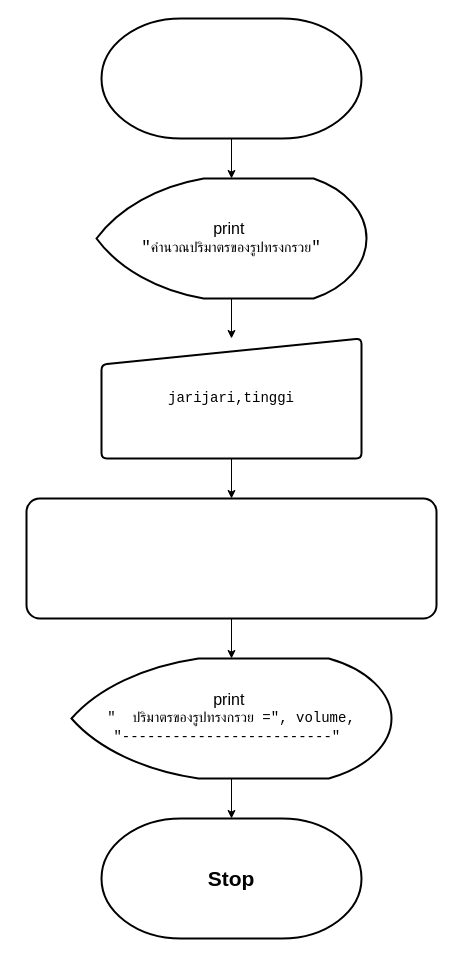
The diagram is 462 pixels wide and 956 high, and some of its shapes have lost their labels. Each missing label, with the box of its shape:
Start: (100, 17, 362, 139)
volume = (1/3) * 3.14159 * jarijari ** 2 * tinggi: (25, 497, 437, 619)
